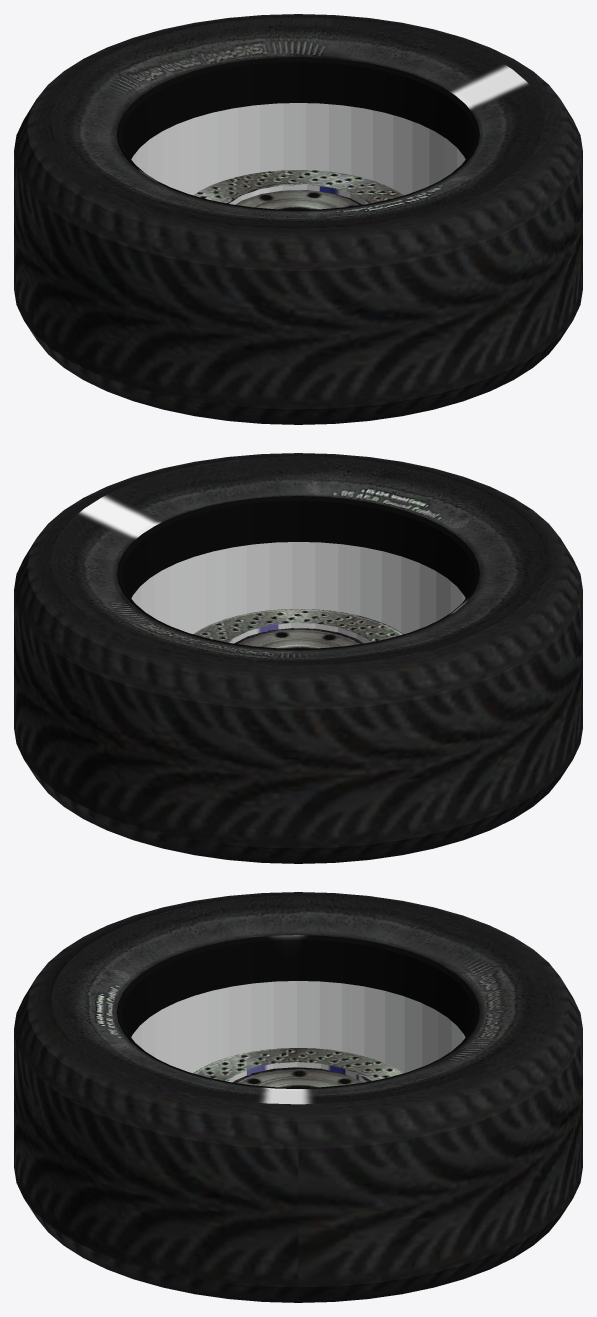
Rendered from roda.dae.
The picture shows the model from 3 angles, top to bottom: view 1: azimuth 30°, elevation 25°; view 2: azimuth 150°, elevation 25°; view 3: azimuth 270°, elevation 25°; orthographic projection.
Visible parts, largest first — view 1: node; view 2: node; view 3: node.
Boxes of the visible parts, x1=… form: node: x1=14, y1=14, x2=582, y2=424; node: x1=14, y1=453, x2=582, y2=863; node: x1=14, y1=892, x2=582, y2=1302.
Bounding box in the file's own units: 0.7755 × 0.2933 × 0.7755.
Materials: 3 (3 with a texture image).
